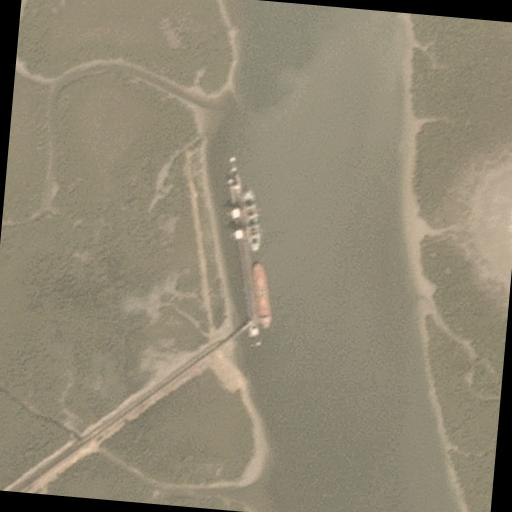ship: (246, 259, 278, 328), (238, 187, 266, 250)
